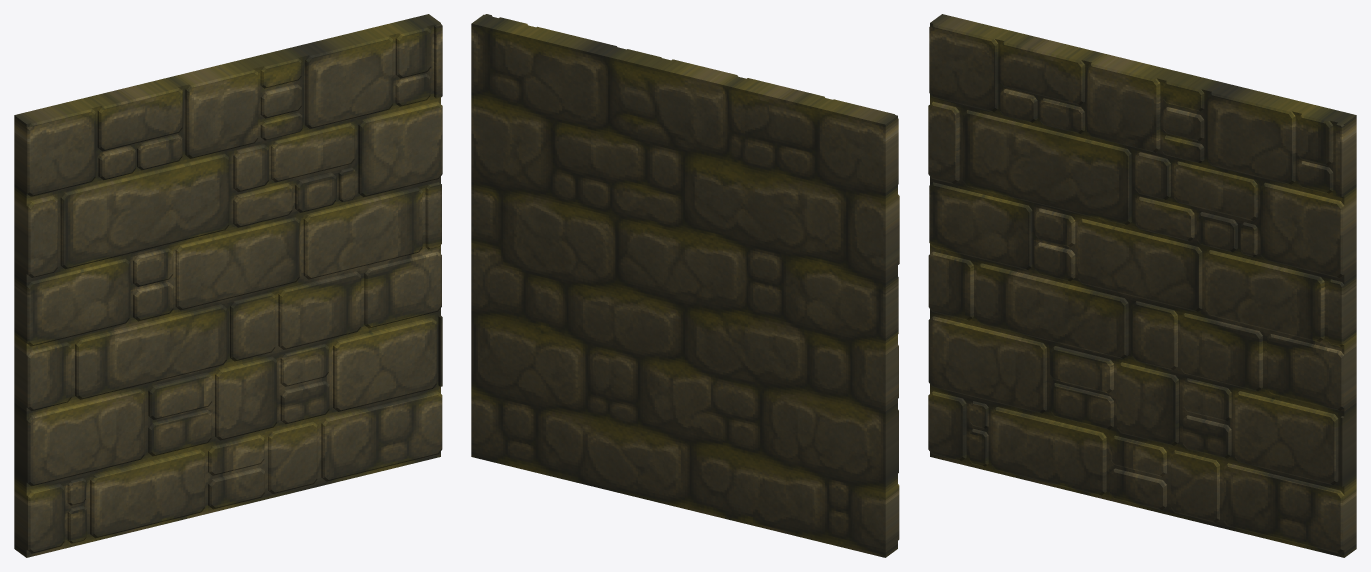
The model's file is SM_Blender_CliffFace.glb.
The picture shows the model from 3 angles, left to right: view 1: azimuth 30°, elevation 25°; view 2: azimuth 150°, elevation 25°; view 3: azimuth 330°, elevation 25°; orthographic projection.
Parts seen in each view (by area): view 1: SM_Blender_CliffFace; view 2: SM_Blender_CliffFace; view 3: SM_Blender_CliffFace.
Boxes of the visible parts, x1,y1,x2,y2 form: SM_Blender_CliffFace: (14,14,442,557); SM_Blender_CliffFace: (471,14,899,557); SM_Blender_CliffFace: (928,14,1356,557).
Bounding box in the file's own units: 2 × 2 × 0.124.
1 material, 1 textured.
